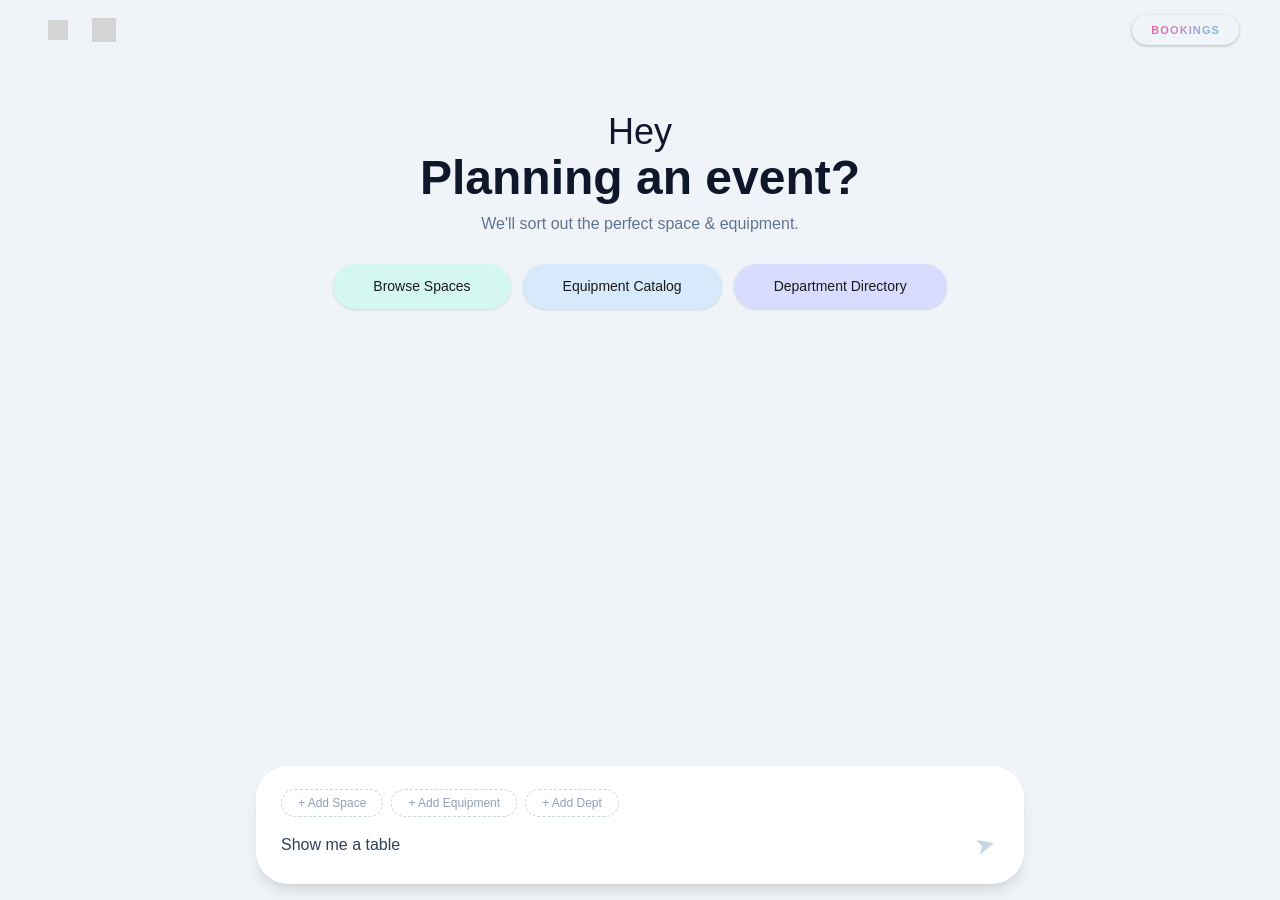
Test: MainChat Component › renders markdown tables correctly using custom components and remark-gfm
Click the button "➤". click: (985, 845)
box: [971,829,999,861]
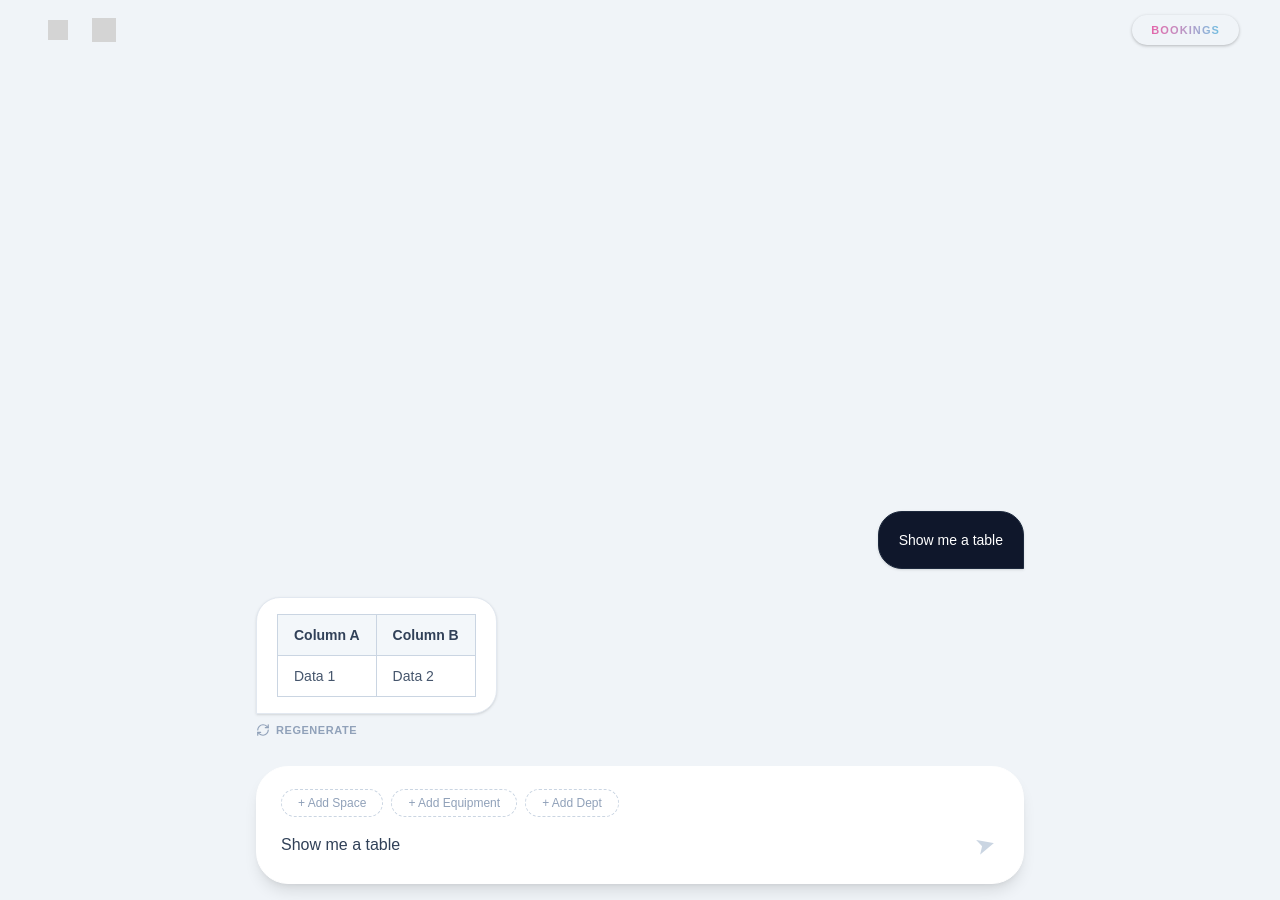
expect the table is shown: met, box [277,614,476,696]
expect the column heading "Column A" is shown: met, box [278,614,376,655]
expect the cell "Data 1" is shown: met, box [278,655,376,696]
